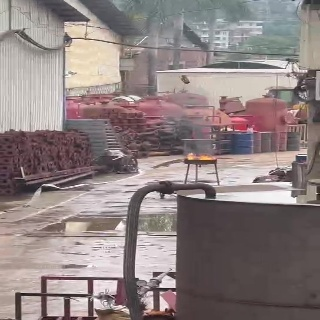fire: (186, 152, 217, 161)
